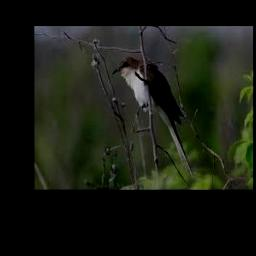Cuckoo: (112, 55, 193, 178)
